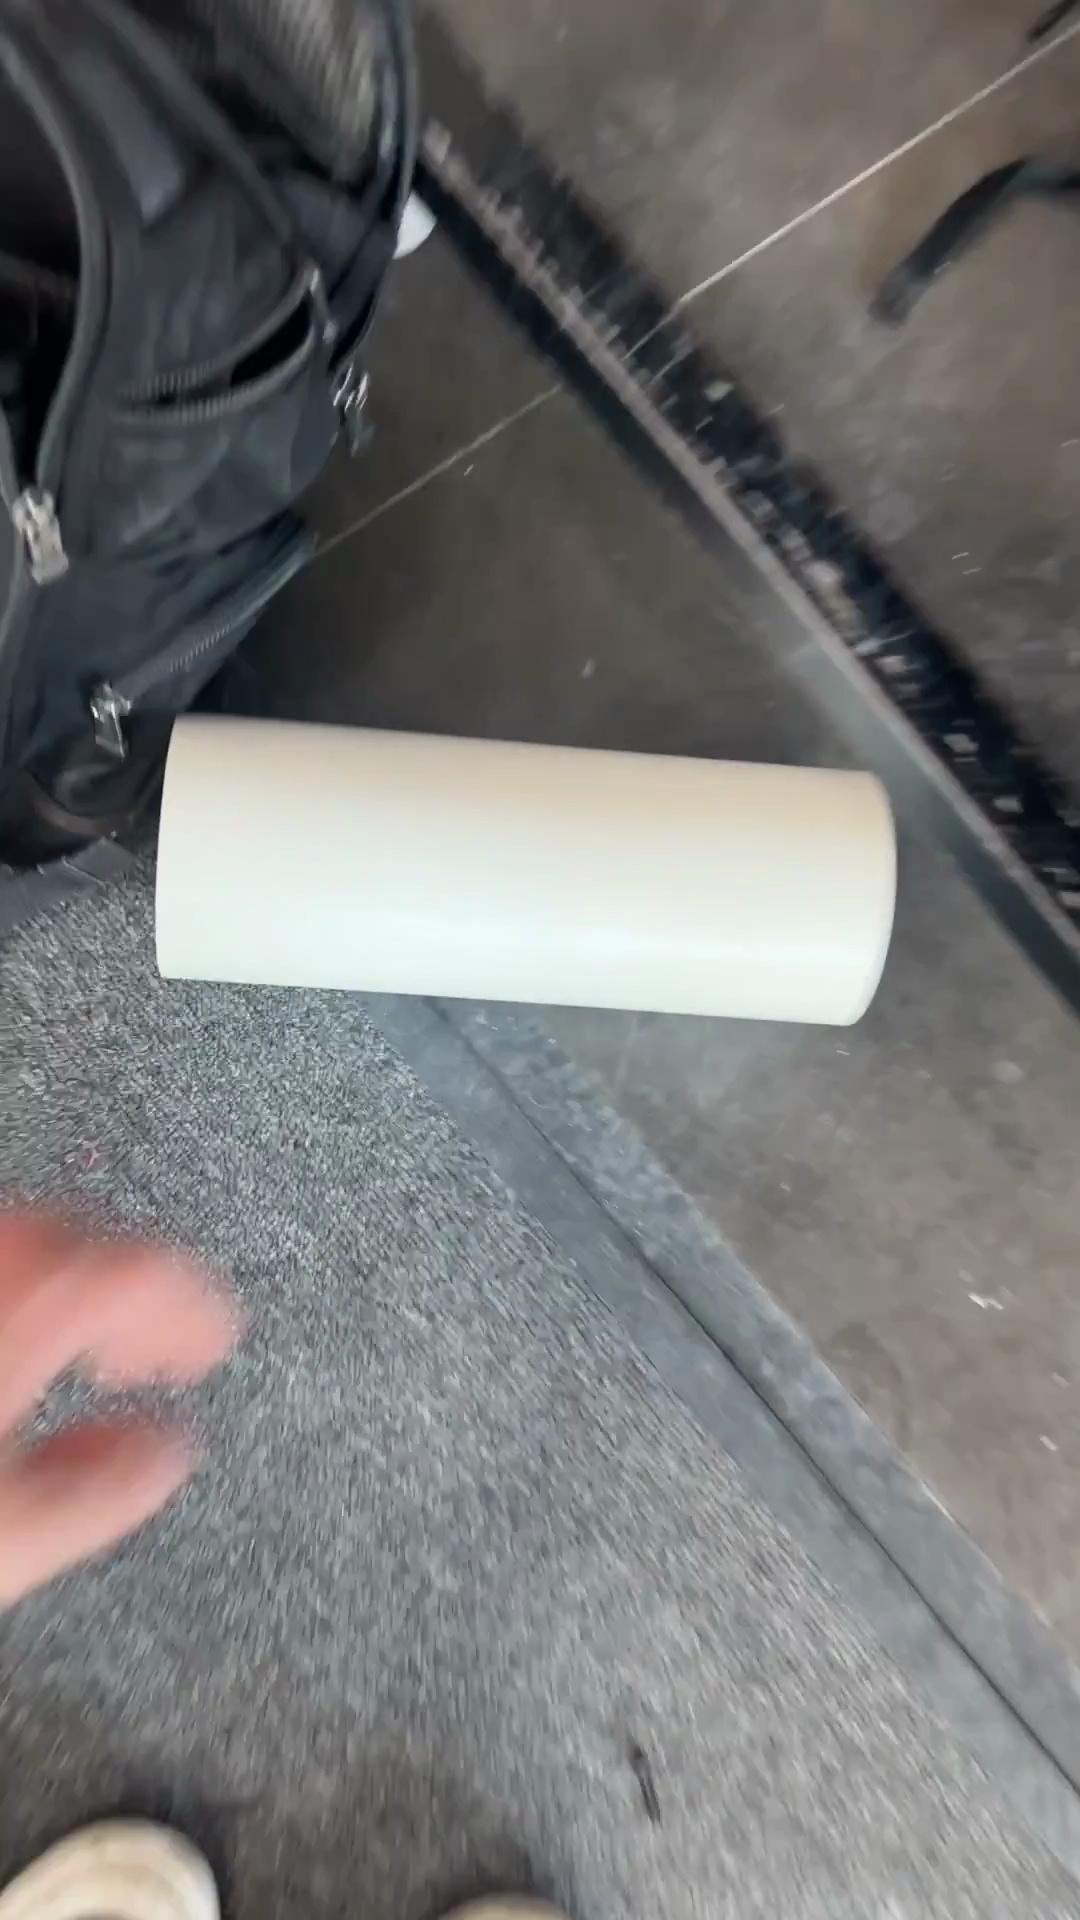CORAL: (151, 708, 899, 1029)
